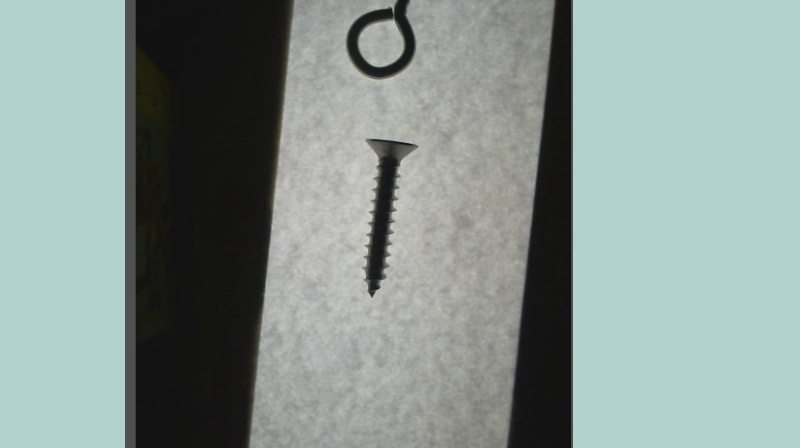O001: (341, 0, 431, 83)
S001: (355, 134, 419, 302)
